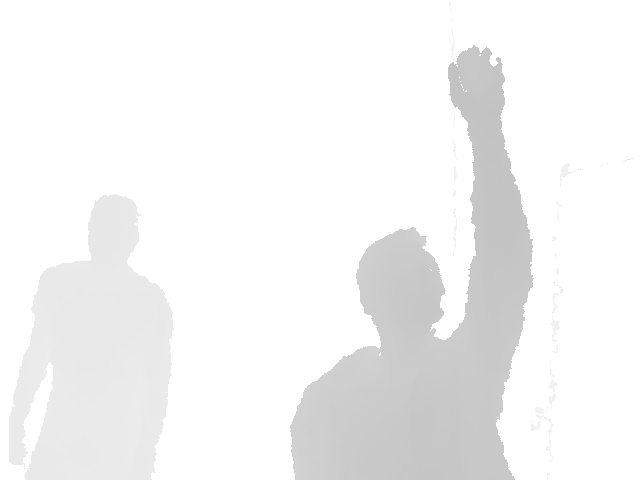hand: (447, 46, 506, 129)
head: (356, 227, 444, 345), (87, 194, 139, 270)
person: (288, 46, 534, 480), (8, 194, 175, 480)
